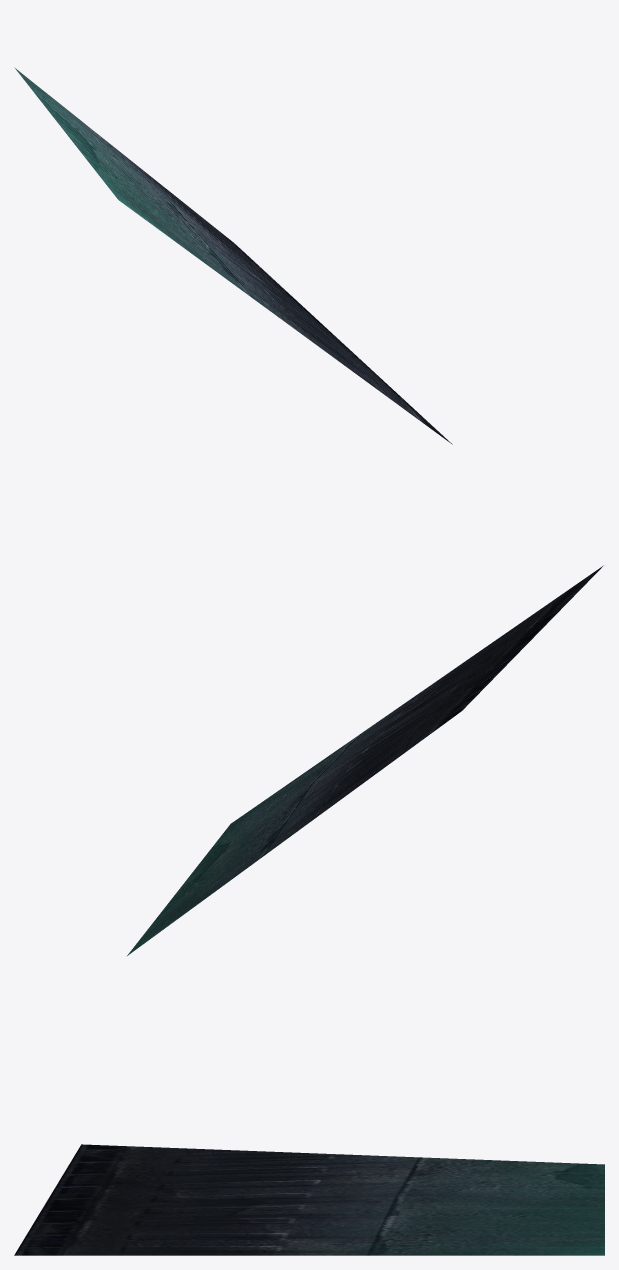
The picture shows the model from 3 angles, top to bottom: view 1: azimuth 30°, elevation 25°; view 2: azimuth 150°, elevation 25°; view 3: azimuth 270°, elevation 25°; orthographic projection. The views are drawn at different scales.
Visible parts, largest first — view 1: model_Object51; view 2: model_Object51; view 3: model_Object51.
Part boxes in pixels (<box>): model_Object51: <box>14,67,452,444</box>; model_Object51: <box>127,565,603,955</box>; model_Object51: <box>14,1144,604,1255</box>.
Size of the model in its own units: 3.84 by 2.17 by 6.03.
1 material, 1 textured.
